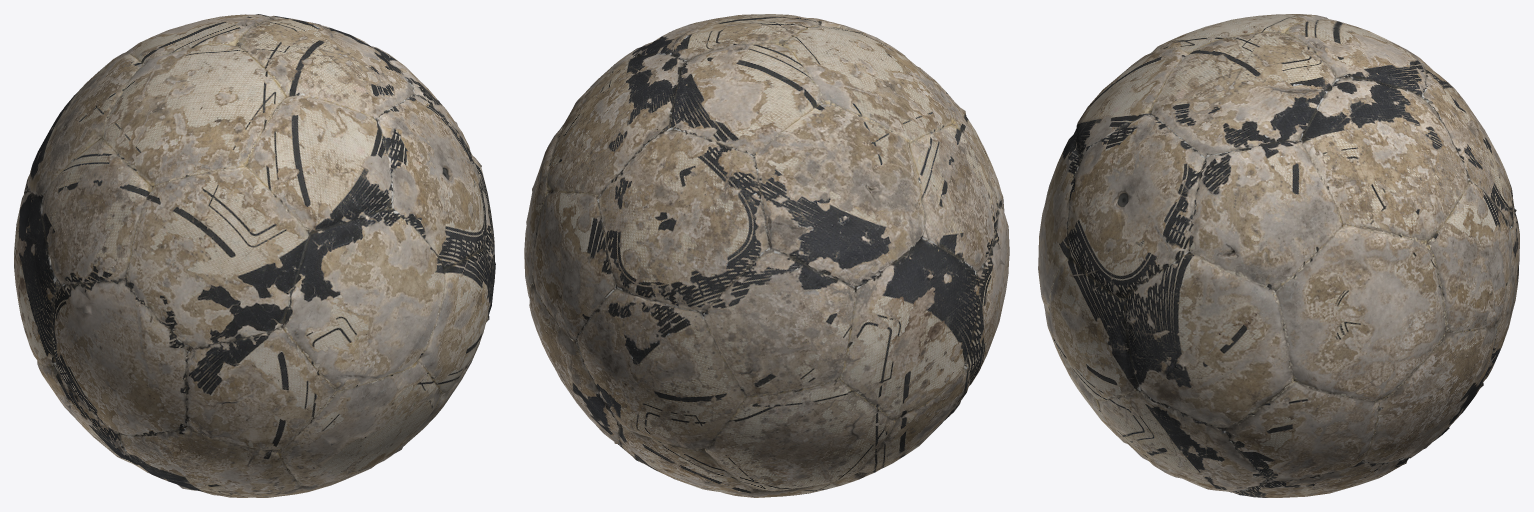
Rendered from worn_football.glb.
The picture shows the model from 3 angles, left to right: view 1: azimuth 30°, elevation 25°; view 2: azimuth 150°, elevation 25°; view 3: azimuth 270°, elevation 25°; orthographic projection.
Parts seen in each view (by area): view 1: Aset_props_recreational_S_vlkjagt_00_LOD0_2; view 2: Aset_props_recreational_S_vlkjagt_00_LOD0_2; view 3: Aset_props_recreational_S_vlkjagt_00_LOD0_2.
Part boxes in pixels (x1,y1,x2,y2): Aset_props_recreational_S_vlkjagt_00_LOD0_2: [14, 14, 495, 497]; Aset_props_recreational_S_vlkjagt_00_LOD0_2: [524, 14, 1009, 497]; Aset_props_recreational_S_vlkjagt_00_LOD0_2: [1038, 14, 1519, 497].
Size of the model in its own units: 0.1662 by 0.1659 by 0.1653.
Materials: 1 (1 with a texture image).
